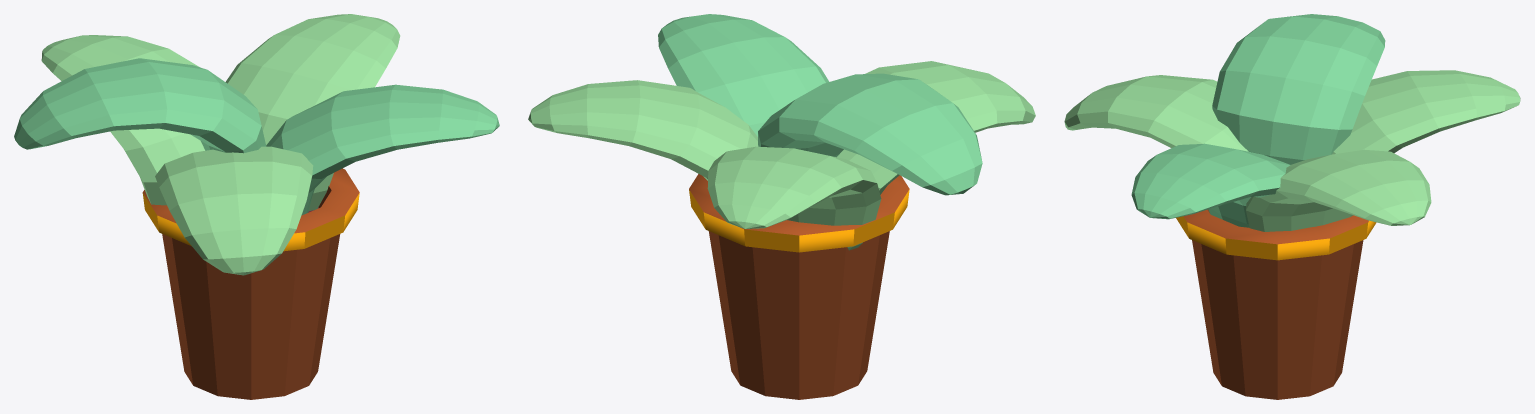
Rendered from potted_plant03.fbx.
The picture shows the model from 3 angles, left to right: view 1: azimuth 30°, elevation 25°; view 2: azimuth 150°, elevation 25°; view 3: azimuth 270°, elevation 25°; orthographic projection. The views are drawn at different scales.
Visible parts, largest first — view 1: potted_plant03; view 2: potted_plant03; view 3: potted_plant03.
Part boxes in pixels (<box>): potted_plant03: <box>14,14,499,399</box>; potted_plant03: <box>528,14,1035,399</box>; potted_plant03: <box>1064,14,1520,399</box>.
Size of the model in its own units: 1.5 by 1.09 by 1.52.
